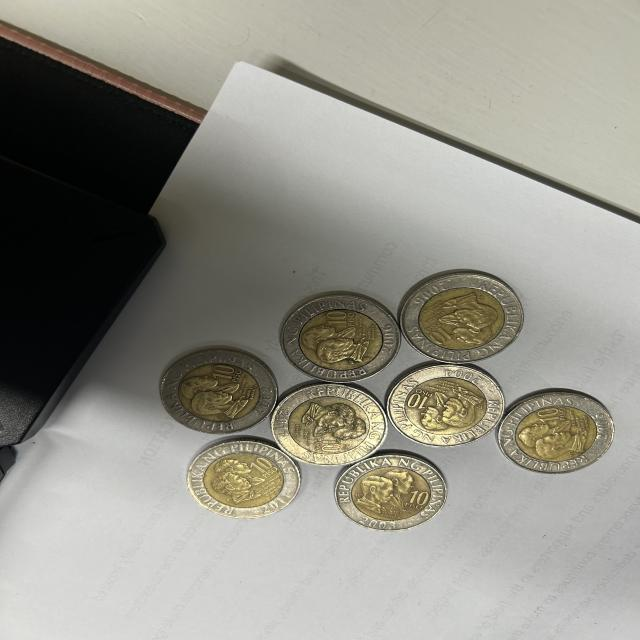10_Old_Front: (429, 326, 454, 346), (322, 309, 350, 326), (538, 409, 562, 425), (211, 364, 234, 380), (405, 393, 428, 409), (320, 440, 343, 455), (410, 490, 430, 507), (250, 458, 272, 472)
